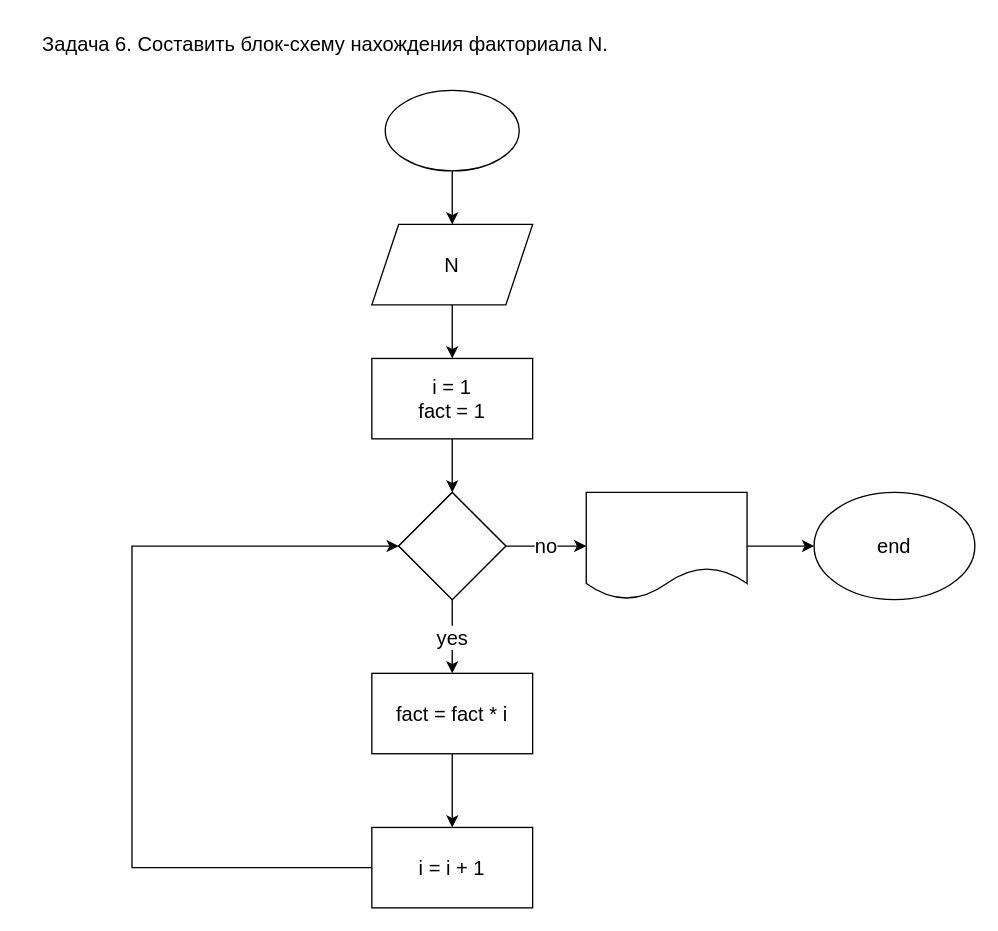
Some shapes in this 998 by 931 pixel diagram are drawn without their labels. The centre of each missing label's shape, as x and y in pixels:
fact: (x=666, y=545)
i <= N: (x=451, y=545)
Start: (x=451, y=130)
